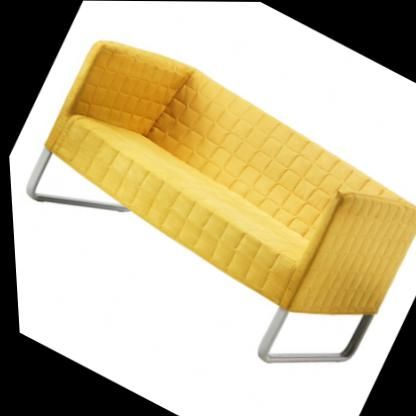Sofa: (0, 9, 416, 404)
